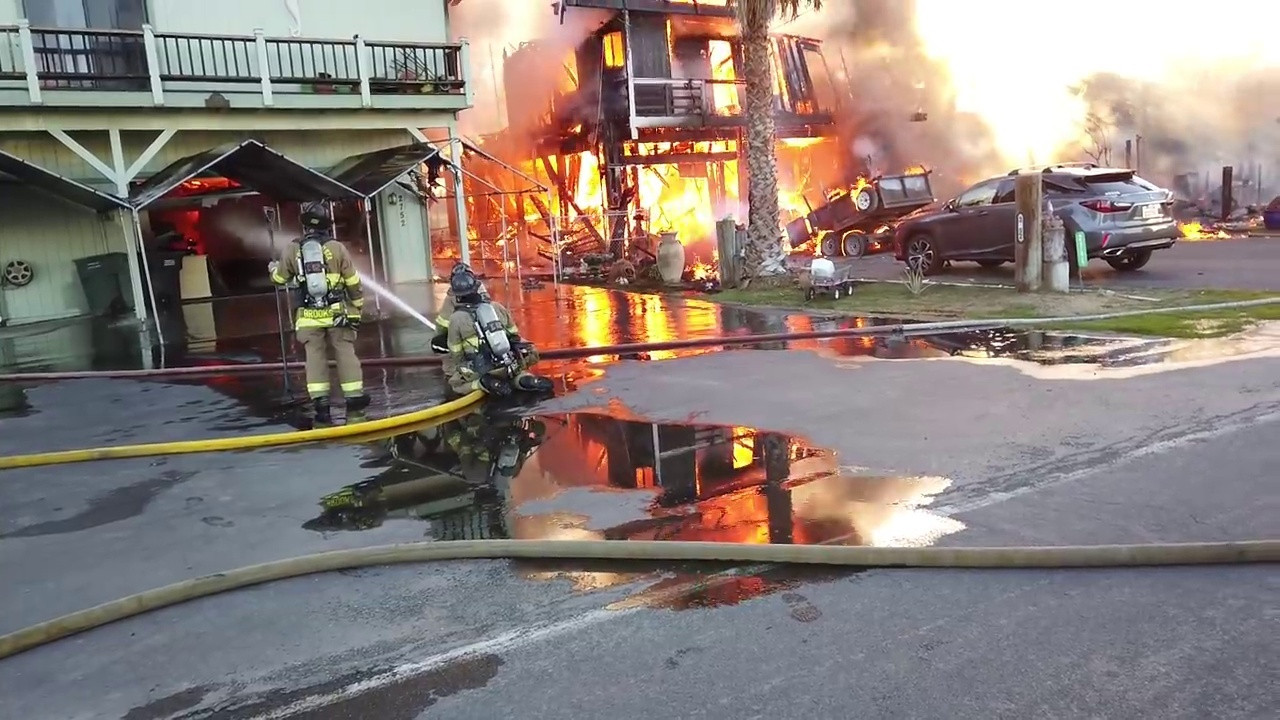fire: (974, 72, 1107, 172), (620, 141, 751, 240), (505, 142, 603, 236), (770, 134, 847, 205), (435, 180, 496, 260), (707, 37, 742, 114), (836, 176, 889, 213), (812, 223, 864, 259), (600, 28, 632, 70), (1174, 218, 1236, 239), (961, 168, 996, 192), (689, 253, 713, 277)
smoke: (807, 1, 995, 165), (1118, 4, 1280, 194), (444, 1, 590, 141)
